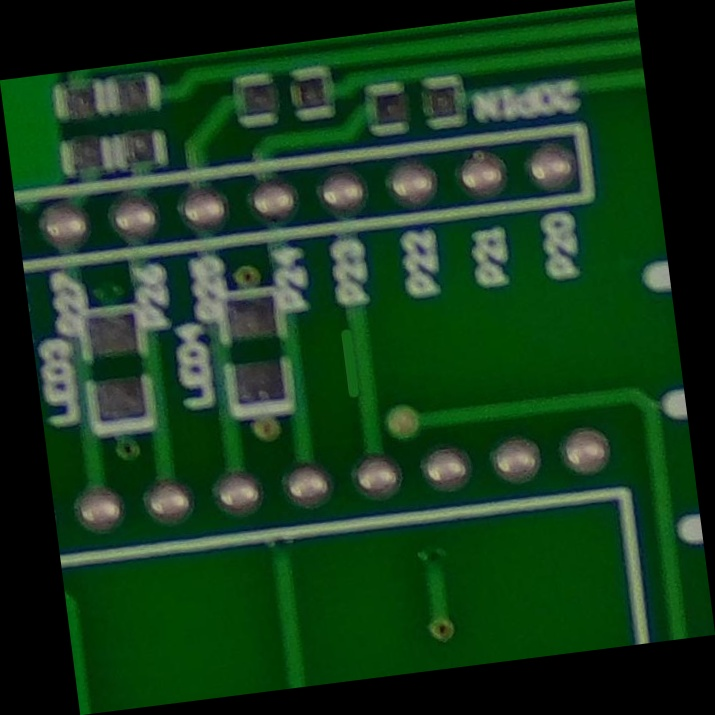spur: (325, 314, 391, 402)
